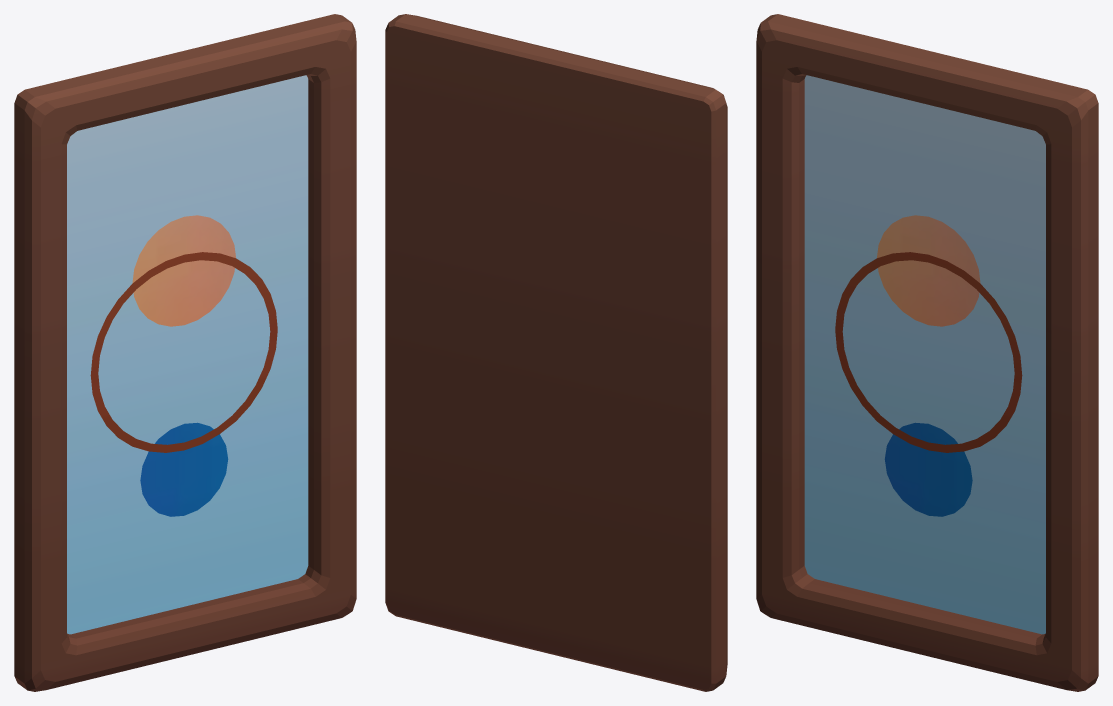
The model's file is Picture_17.glb.
3 renders of one model, left to right at view 1: azimuth 30°, elevation 25°; view 2: azimuth 150°, elevation 25°; view 3: azimuth 330°, elevation 25°, orthographic.
Visible parts, largest first — view 1: Picture_17; view 2: Picture_17; view 3: Picture_17.
Boxes of the visible parts, x1,y1,x2,y2 form: Picture_17: (14,14,356,691); Picture_17: (385,14,727,691); Picture_17: (756,14,1098,691).
Bounding box in the file's own units: 0.64 × 1.1 × 0.06.
1 material, 1 textured.
